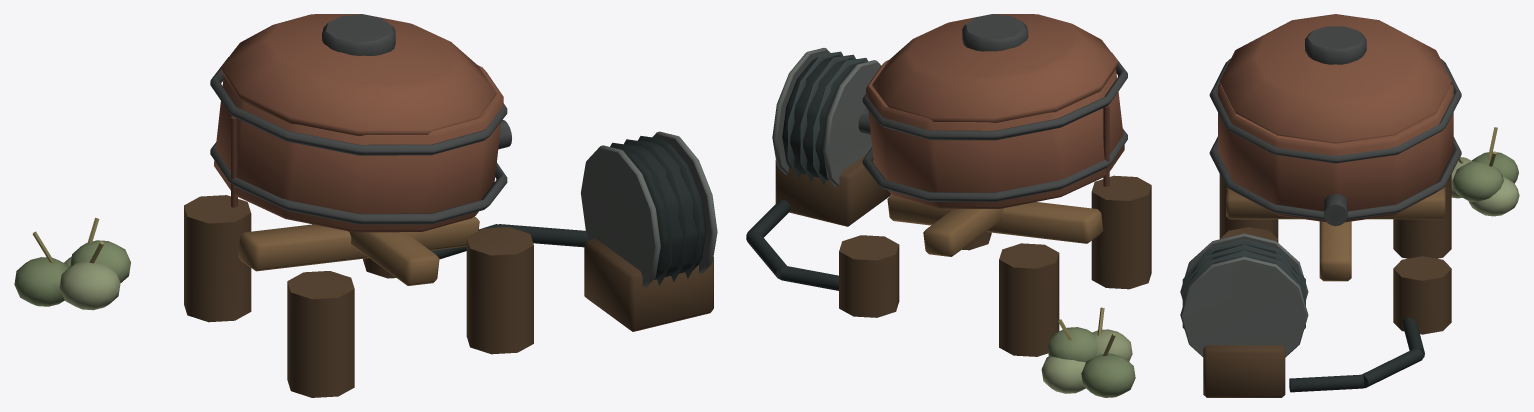
The model's file is water_tank_b.glb.
3 views of the same model, side by side, from view 1: azimuth 30°, elevation 25°; view 2: azimuth 150°, elevation 25°; view 3: azimuth 270°, elevation 25° (orthographic). The views are drawn at different scales.
Visible parts, largest first — view 1: Surface; view 2: Surface; view 3: Surface.
Boxes of the visible parts, x1,y1,x2,y2 form: Surface: (14, 14, 717, 397); Surface: (746, 14, 1151, 397); Surface: (1180, 14, 1519, 397).
Bounding box in the file's own units: 5.57 × 3 × 3.71.
